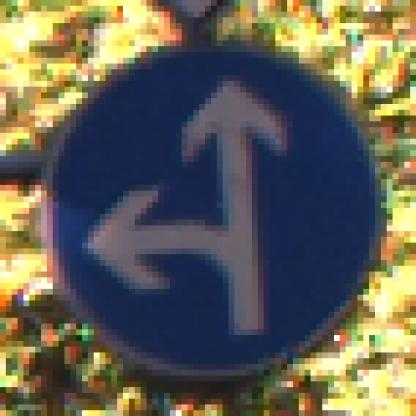Straight or Left: (42, 36, 382, 377)
